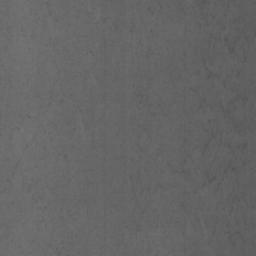Silk spot: (197, 56, 255, 246), (198, 0, 256, 63), (23, 178, 47, 209), (36, 94, 72, 112), (136, 94, 160, 116)
